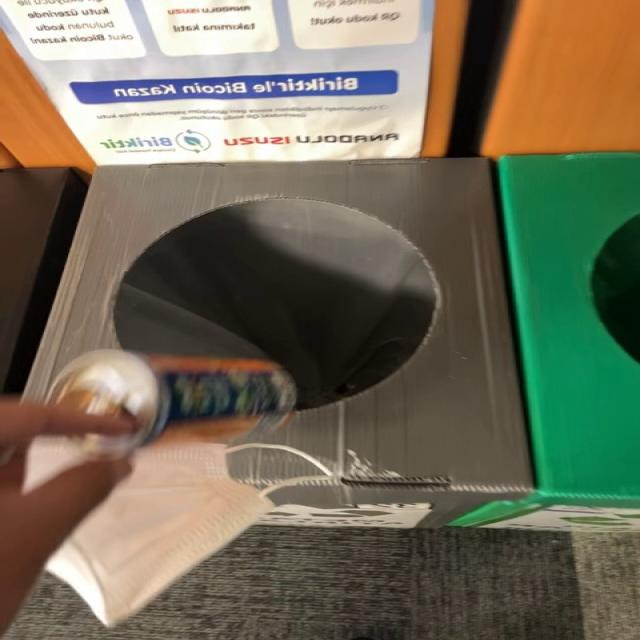bin: (24, 158, 532, 526)
metal: (47, 351, 296, 445)
